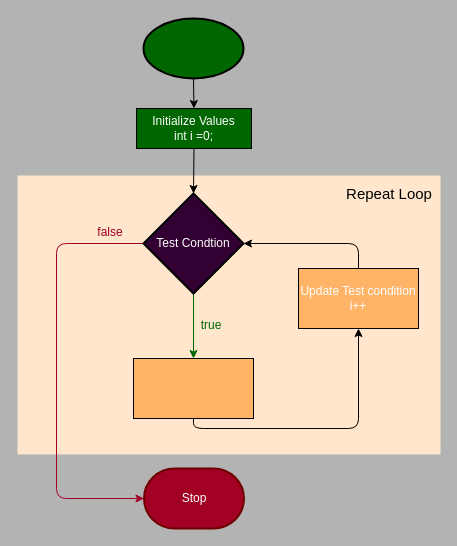
Some shapes in this 457 by 546 pixel diagram are drawn without their labels. The centre of each missing label's shape, as x and y in pixels:
"Execute for loop Body Statements" belongs at pixel 193 388.
"Start" belongs at pixel 193 48.
